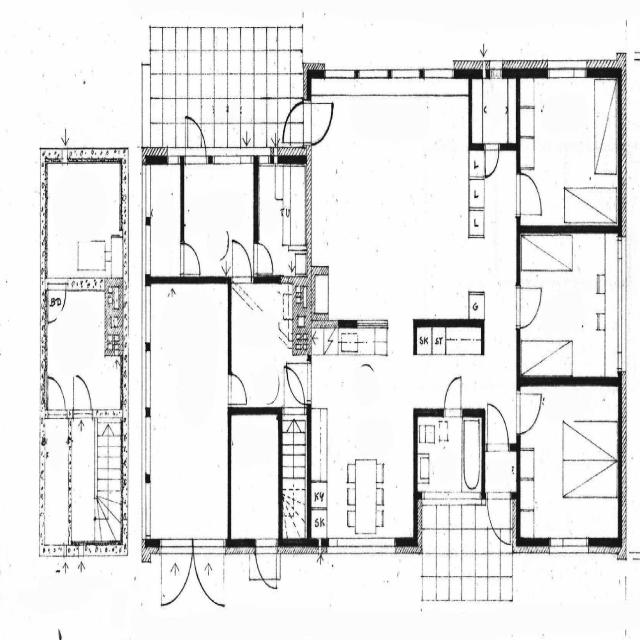door: (193, 538, 224, 612), (162, 538, 192, 612), (488, 493, 510, 548), (186, 108, 207, 164), (282, 104, 312, 143), (304, 104, 332, 143), (286, 363, 312, 404), (516, 173, 542, 214), (256, 539, 276, 591), (487, 404, 509, 451), (517, 288, 541, 328), (284, 369, 305, 414), (517, 394, 541, 433), (232, 241, 252, 283), (74, 376, 92, 418), (49, 278, 66, 322), (49, 378, 66, 418), (254, 242, 275, 274), (180, 242, 201, 274), (445, 377, 461, 416), (228, 374, 247, 404), (485, 144, 499, 176)
